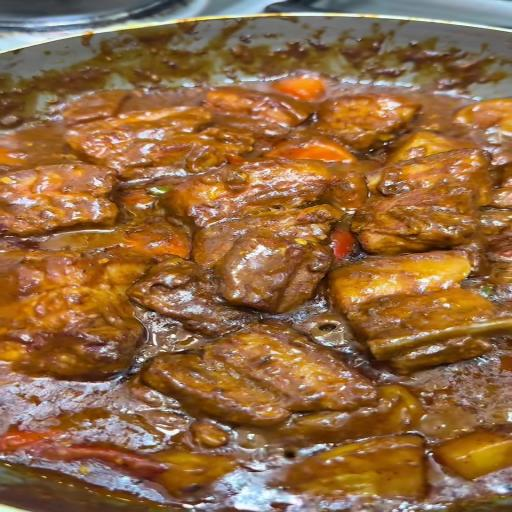pork caldereta: (0, 97, 511, 512)
